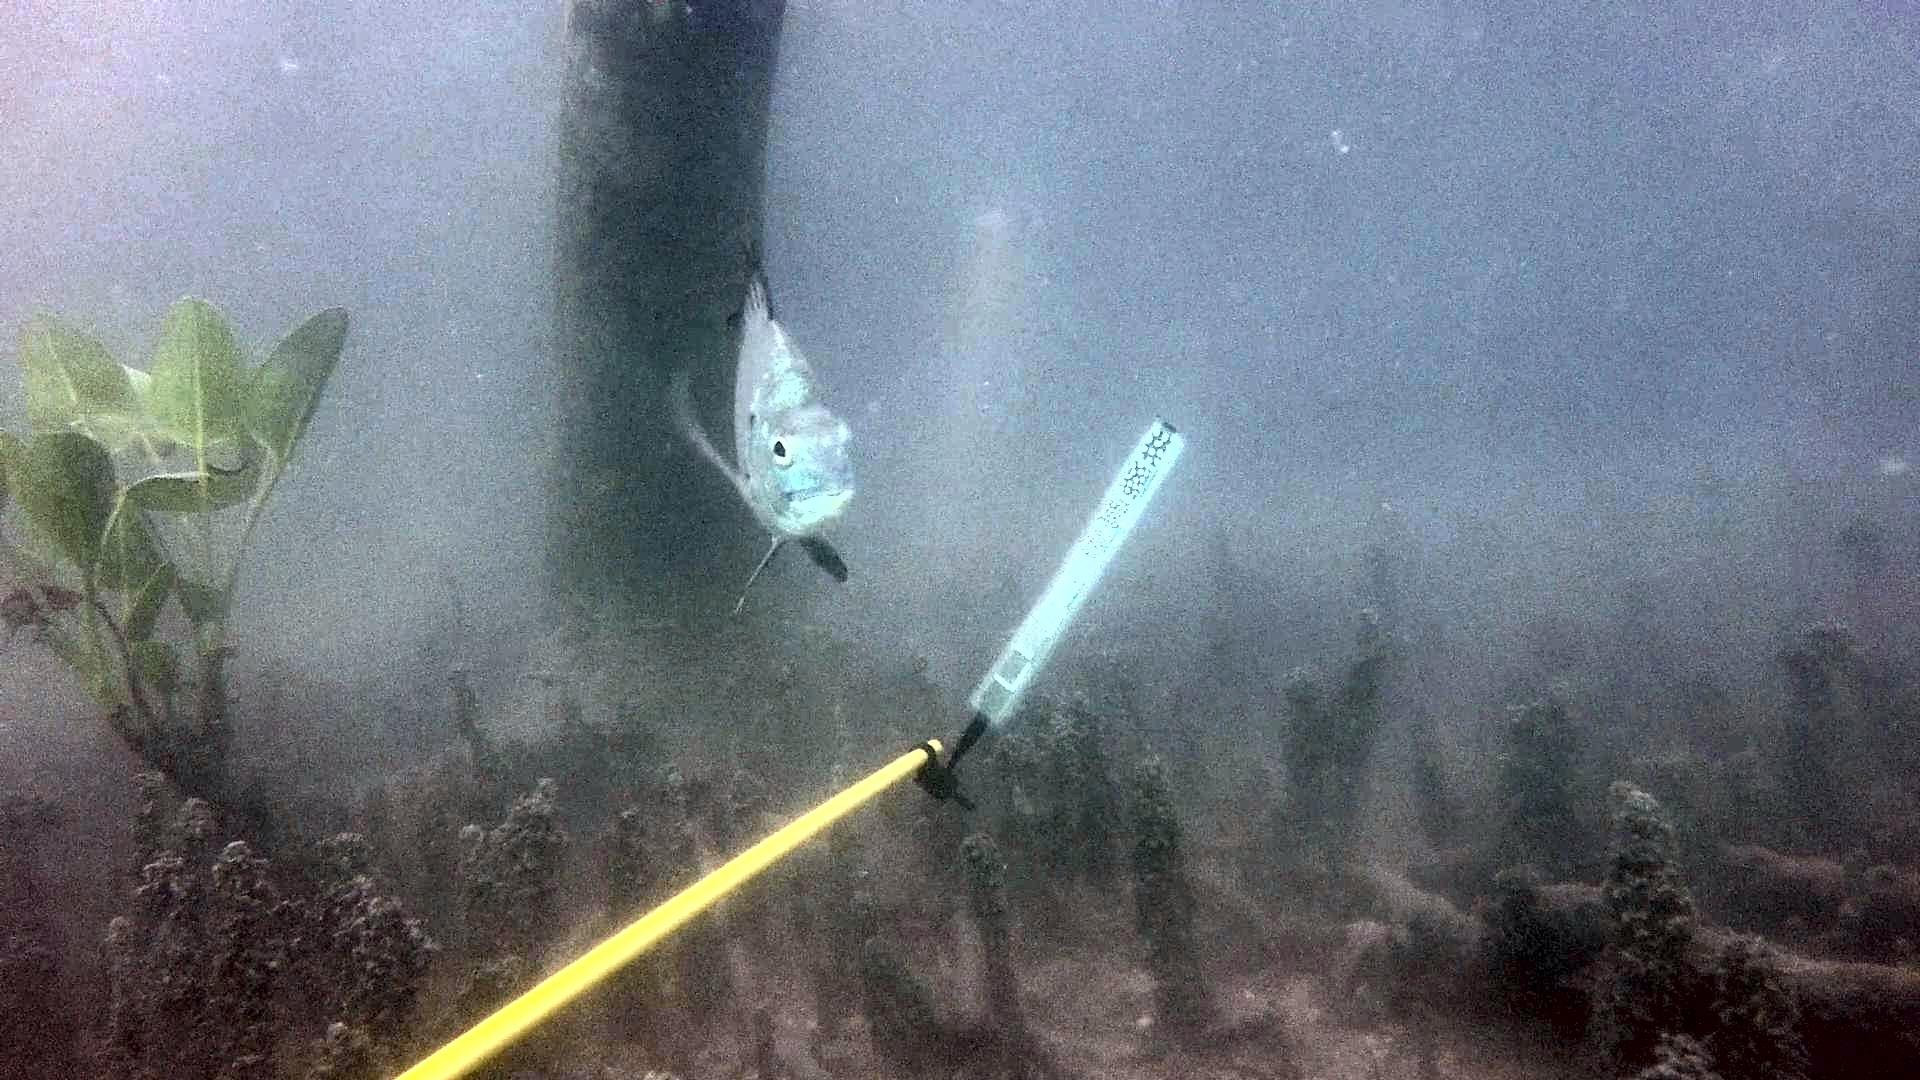acanthopagrus palmaris: (645, 231, 893, 619)
